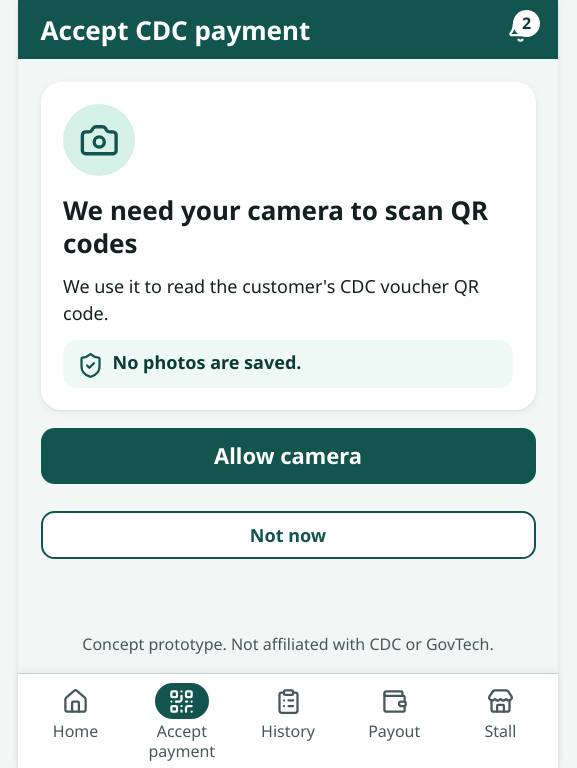
Scenario: Pay flow › shows the explainer first, Not now offers fallbacks
Click the button "Not now": (288, 535) [40,511,536,559]
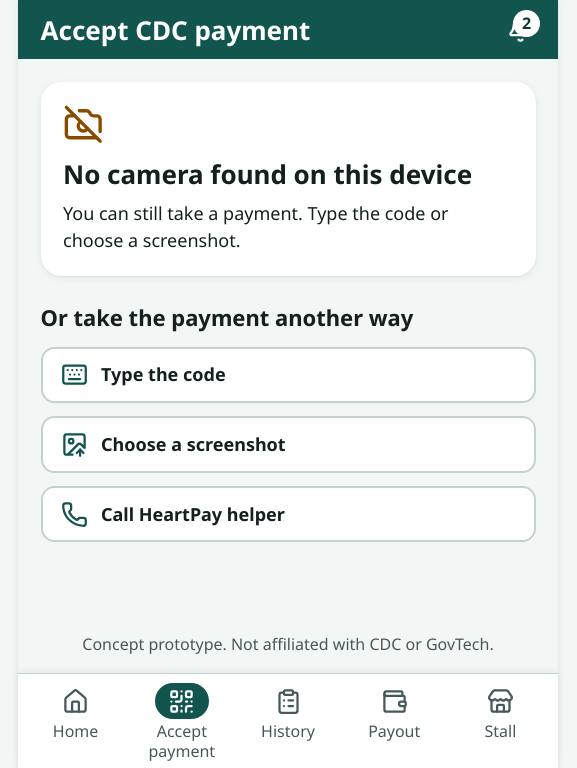
Result: the text "No camera found on this device" is shown at [63,158,513,191]
Result: the text "Type the code" is shown at [63,201,448,252]
